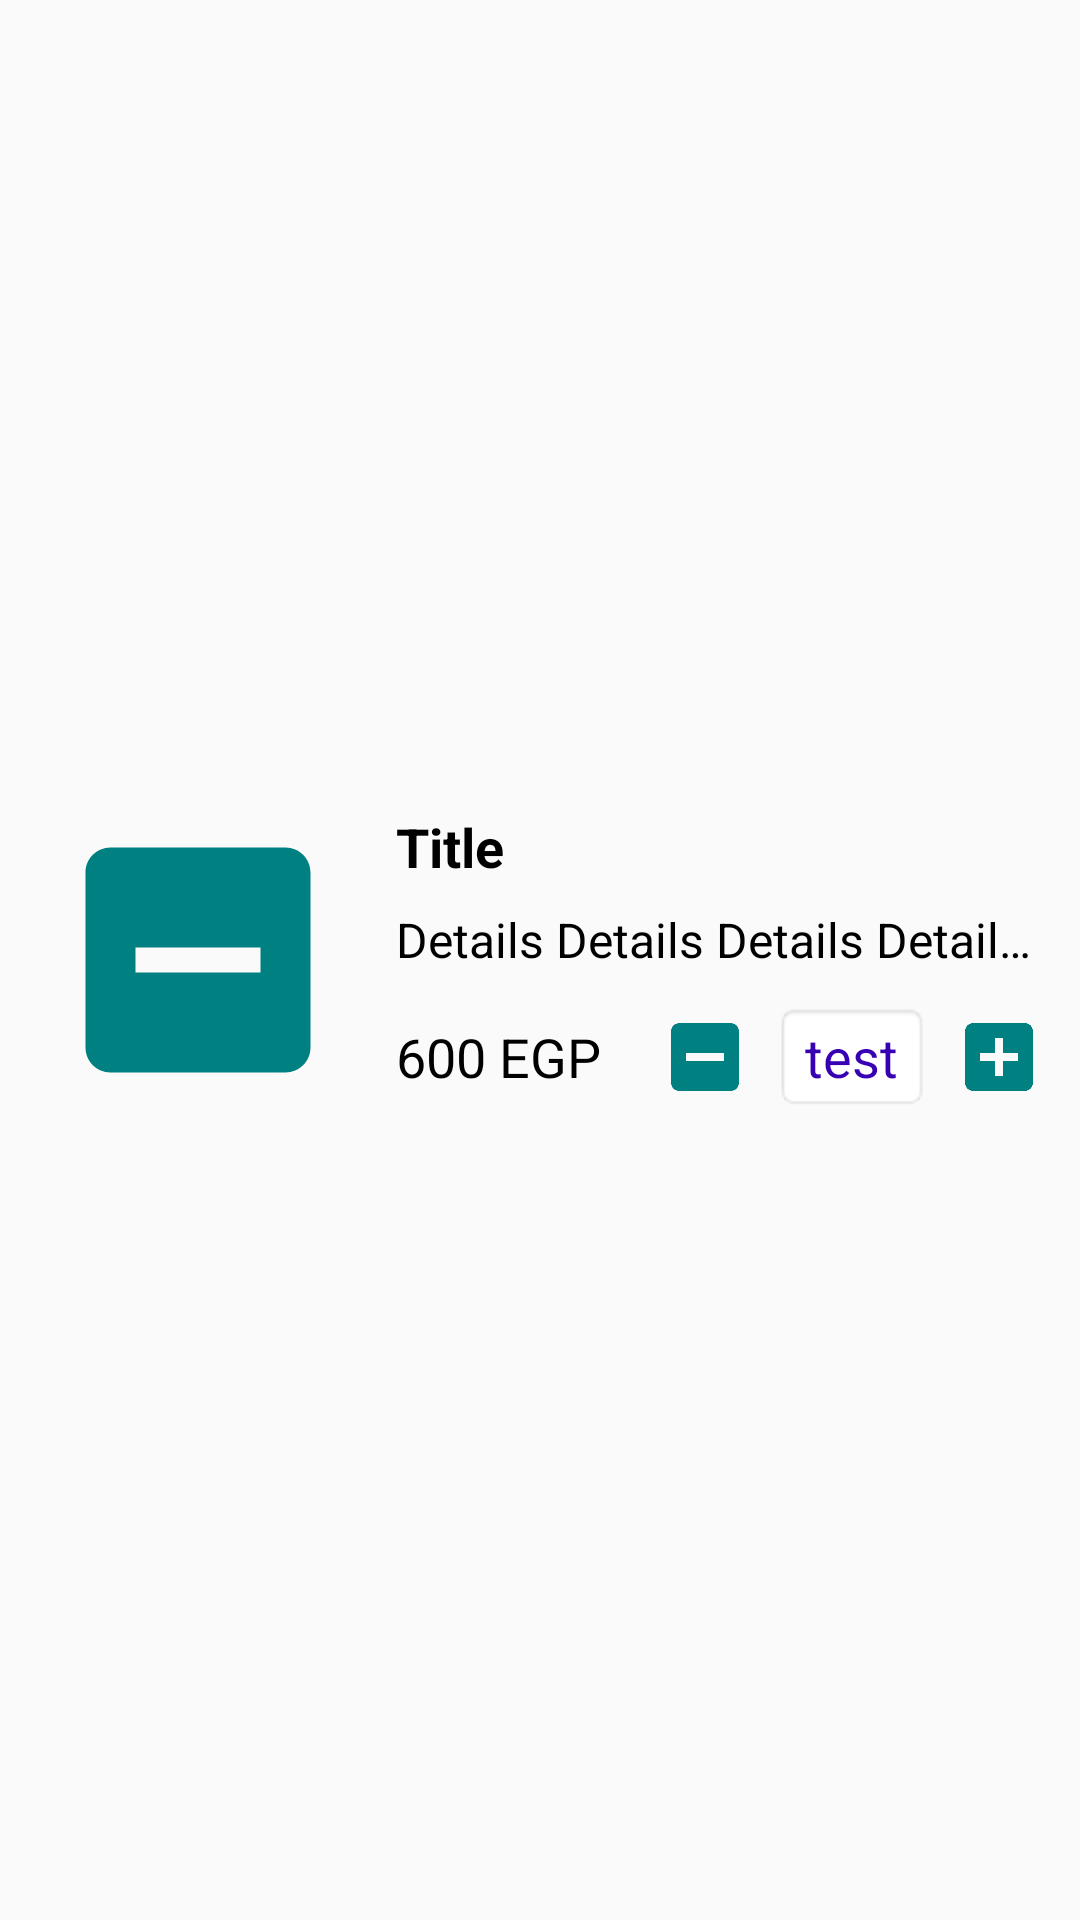

Where icons sit on this 1080px×1920px app screen, as Rect(x1, y1, x2, y2):
add box: Rect(965, 1023, 1033, 1091)
remove box: Rect(85, 847, 311, 1073), Rect(671, 1023, 739, 1091)
